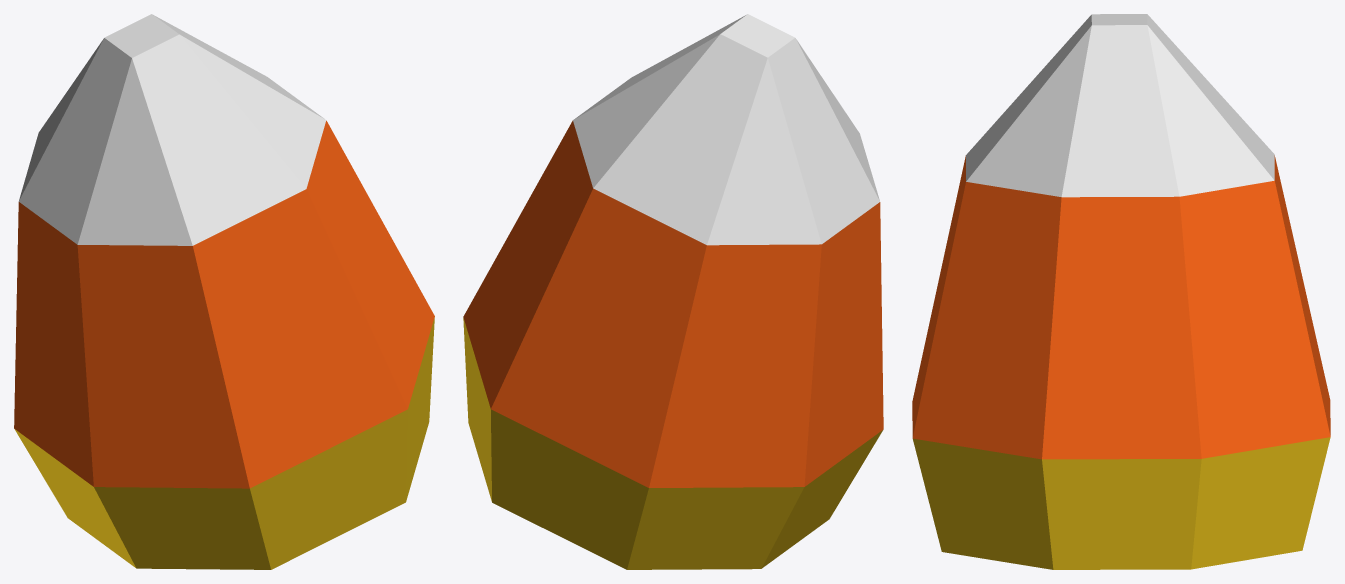
Rendered from Projectile_AT_Speed.fbx.
3 views of the same model, side by side, from view 1: azimuth 30°, elevation 25°; view 2: azimuth 150°, elevation 25°; view 3: azimuth 270°, elevation 25° (orthographic).
Visible parts, largest first — view 1: Projectile_AT_Speed; view 2: Projectile_AT_Speed; view 3: Projectile_AT_Speed.
Boxes of the visible parts, bbox=[...] form: Projectile_AT_Speed: bbox=[14, 14, 434, 569]; Projectile_AT_Speed: bbox=[463, 14, 883, 569]; Projectile_AT_Speed: bbox=[912, 14, 1330, 569].
Bounding box in the file's own units: 5.59 × 7.75 × 5.79.
